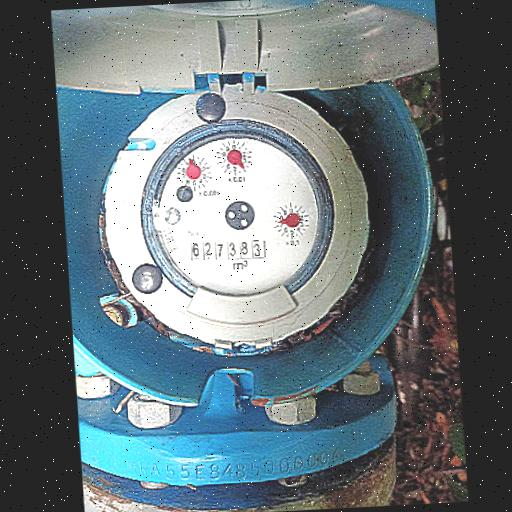2: (203, 241, 215, 260)
3: (227, 241, 239, 259), (252, 240, 264, 258)
6: (191, 243, 204, 261)
7: (216, 242, 227, 260)
8: (240, 241, 253, 259)
border_water_meter_number: (190, 238, 267, 262)
